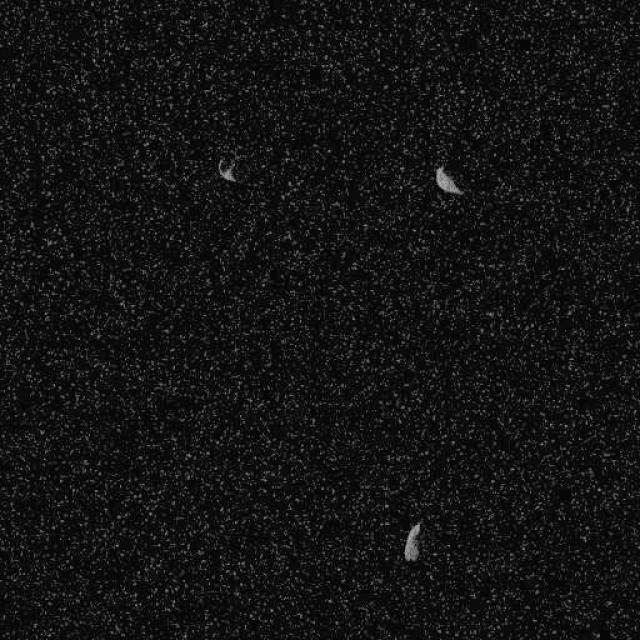D2: (434, 164, 464, 196), (402, 520, 422, 562), (216, 154, 238, 182)
